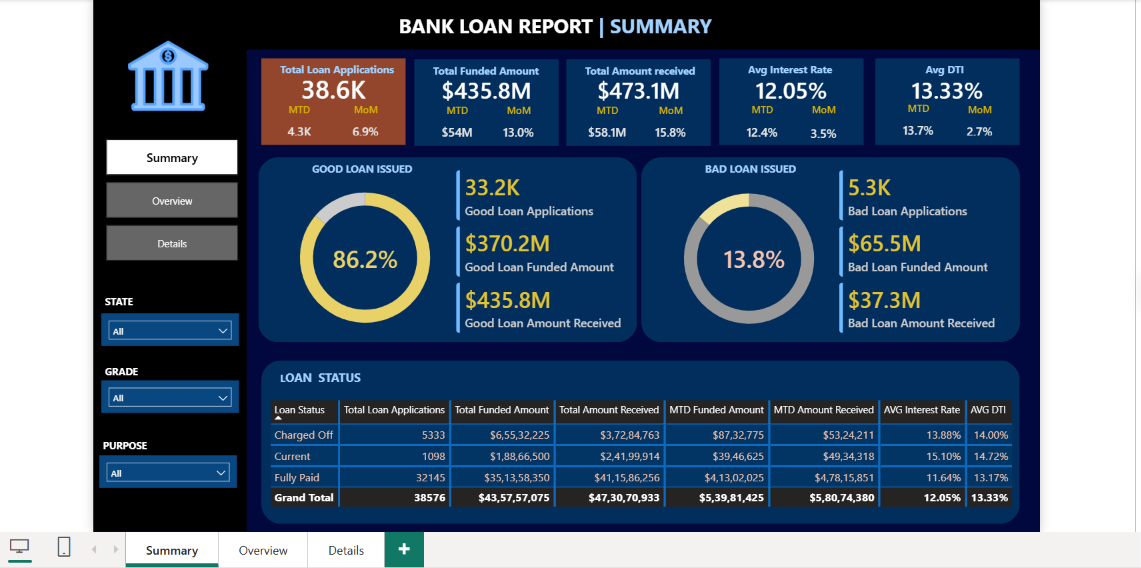

This screenshot's page, from the dashboard's own definition file:
{"tool":"powerbi","page":{"name":"Summary","canvas":[1280,720],"ordinal":0},"visuals":[{"type":"shape","box":[222.6,213.5,511.8,249.8],"z":0},{"type":"shape","box":[0,0,1279.5,68.1],"z":1000},{"type":"shape","box":[0,68.1,207.4,651.1],"z":2000},{"type":"textbox","box":[318,12.1,628.4,56],"z":3000},{"type":"shape","box":[227.1,80.3,195,117],"z":3000,"group":"g1"},{"type":"shape","box":[846.1,80.3,195,117],"z":3000,"group":"g3"},{"type":"shape","box":[1056.9,80.9,195,117],"z":3000,"group":"g4"},{"type":"shape","box":[433.4,81.8,195,117],"z":3000,"group":"g2"},{"type":"shape","box":[639.8,81.8,195,117],"z":3000,"group":"g5"},{"type":"group","id":"g1","title":"Group 1","box":[227.1,80.3,195.3,116.6],"z":4000},{"type":"cardVisual","fields":{"Data":["bank_loan_data.TOtal Loan Applications"]},"box":[227.1,84.8,195.3,71.2],"z":4000,"group":"g1"},{"type":"cardVisual","fields":{"Data":["bank_loan_data.AVG Interest Rate"]},"box":[846.1,84.8,195.3,71.2],"z":4000,"group":"g3"},{"type":"cardVisual","fields":{"Data":["bank_loan_data.AVG DTI"]},"box":[1056.9,85.4,195.3,71.2],"z":4000,"group":"g4"},{"type":"cardVisual","fields":{"Data":["bank_loan_data.Total Funded Amount"]},"box":[433.4,86.3,195.3,71],"z":4000,"group":"g2"},{"type":"cardVisual","fields":{"Data":["bank_loan_data.Total Amount Received"]},"box":[639.8,86.3,195.3,71.2],"z":4000,"group":"g5"},{"type":"textbox","box":[879.4,79.9,174.1,40.9],"z":5000,"group":"g3"},{"type":"textbox","box":[246.8,80.3,174.1,40.9],"z":5000,"group":"g1"},{"type":"textbox","box":[1063.7,80.3,174.1,40.9],"z":5000,"group":"g4"},{"type":"group","id":"g2","title":"Group 1","box":[433.4,81.8,195.3,117],"z":5000},{"type":"textbox","box":[453.1,81.8,174.1,40.9],"z":5000,"group":"g2"},{"type":"textbox","box":[659.5,81.8,174.1,40.9],"z":5000,"group":"g5"},{"type":"cardVisual","title":"MTD","fields":{"Data":["bank_loan_data.MTD Avg Int Rate"]},"box":[865.8,139,75.7,60.6],"z":6000,"group":"g3"},{"type":"cardVisual","title":"MTD","fields":{"Data":["bank_loan_data.MTD Avg DTI"]},"box":[1075.8,139,78.7,57.5],"z":6000,"group":"g4"},{"type":"cardVisual","title":"MTD","fields":{"Data":["bank_loan_data.MTD Loan Applications"]},"box":[246.8,139.4,62.1,57.5],"z":6000,"group":"g1"},{"type":"cardVisual","title":"MTD","fields":{"Data":["bank_loan_data.MTD Funded Amount"]},"box":[453.7,141.2,75.7,57.5],"z":6000,"group":"g2"},{"type":"cardVisual","title":"MTD","fields":{"Data":["bank_loan_data.MTD Amount Received"]},"box":[655.6,141.2,78.7,57.5],"z":6000,"group":"g5"},{"type":"cardVisual","fields":{"Data":["bank_loan_data.Good Loan %"]},"box":[290.7,311.9,154.4,72.7],"z":6000},{"type":"cardVisual","title":"MoM","fields":{"Data":["bank_loan_data.MoM Avg Int Rate"]},"box":[943,139,87.8,63.6],"z":7000,"group":"g3"},{"type":"cardVisual","title":"MoM","fields":{"Data":["bank_loan_data.MOM Loan Applications"]},"box":[324,139.4,87.8,57.5],"z":7000,"group":"g1"},{"type":"cardVisual","title":"MoM","fields":{"Data":["bank_loan_data.MoM Avg DTI"]},"box":[1153.8,139.9,87.8,57.5],"z":7000,"group":"g4"},{"type":"cardVisual","title":"MoM","fields":{"Data":["bank_loan_data.MoM Total Funded Amount"]},"box":[530.3,140.9,87.8,57.5],"z":7000,"group":"g2"},{"type":"cardVisual","title":"MoM","fields":{"Data":["bank_loan_data.MoM Total Amount Received"]},"box":[736.7,140.9,87.8,57.5],"z":7000,"group":"g5"},{"type":"textbox","box":[290.7,213.5,174.1,40.9],"z":7000},{"type":"group","id":"g3","title":"Group 1","box":[846.1,79.9,207.4,122.7],"z":8000},{"type":"group","id":"g4","title":"Group 1","box":[1056.9,80.3,195.3,116.6],"z":9000},{"type":"group","id":"g5","title":"Group 1","box":[639.8,81.8,195.3,117],"z":10000},{"type":"shape","box":[740.4,213.5,511.8,249.8],"z":11000},{"type":"cardVisual","fields":{"Data":["bank_loan_data.Good Loan Applications","bank_loan_data.Good Loan Funded Amount","bank_loan_data.Good Loan Amount Received"]},"box":[472.4,213.5,289.2,254.4],"z":12000},{"type":"donutChart","fields":{"Category":["bank_loan_data.Good vs Bad Loan"],"Y":["bank_loan_data.Total Loan Applications"]},"box":[761.6,234.7,250,230],"z":13000},{"type":"textbox","box":[822.2,213.5,174.1,40.9],"z":14000},{"type":"cardVisual","fields":{"Data":["bank_loan_data.Bad Loan %"]},"box":[816.2,311.9,154.4,72.7],"z":15000},{"type":"cardVisual","fields":{"Data":["bank_loan_data.Bad Loan Applications","bank_loan_data.Bad Loan Funded Amount","bank_loan_data.Bad Loan Amount Received"]},"box":[990.3,213.5,289.2,254.4],"z":16000},{"type":"shape","box":[227.1,487.6,1025.1,221.1],"z":17000},{"type":"tableEx","fields":{"Values":["bank_loan_data.loan_status","bank_loan_data.Total Loan Applications","bank_loan_data.Total Funded Amount","bank_loan_data.Total Amount Received","bank_loan_data.MTD Funded Amount","bank_loan_data.MTD Amount Received","bank_loan_data.AVG Interest Rate","bank_loan_data.AVG DTI"]},"box":[233.2,536,1014.5,183.2],"z":18000},{"type":"donutChart","fields":{"Category":["bank_loan_data.Good vs Bad Loan"],"Y":["bank_loan_data.Total Loan Applications"]},"box":[242.3,233.2,250,230],"z":19000},{"type":"textbox","box":[246.8,495.1,174.1,40.9],"z":20000},{"type":"slicer","fields":{"Values":["bank_loan_data.address_state"]},"box":[10.8,424.4,186.2,43.9],"z":21000},{"type":"slicer","fields":{"Values":["bank_loan_data.purpose"]},"box":[8.1,616.4,186.2,43.9],"z":22000},{"type":"slicer","fields":{"Values":["bank_loan_data.grade"]},"box":[10.8,515,186.2,43.9],"z":23000},{"type":"textbox","box":[10.8,488,69.7,28.8],"z":24000},{"type":"textbox","box":[10.8,393.3,69.7,28.8],"z":25000},{"type":"textbox","box":[8.1,588,69.7,28.8],"z":26000},{"type":"image","box":[37.4,47.4,126.7,112.1],"z":27000},{"type":"pageNavigator","box":[18.2,189.3,178.7,165],"z":28000}]}

Visuals, with their boxes on the page's 1280x720 design canvas (x1, y1, x2, y2). These are canvas units, not pixel positions in the 1141x568 screenshot, which may show the page scaled, cropped or inside an application window:
shape: 223,214,734,463
shape: 0,0,1280,68
shape: 0,68,207,719
textbox: 318,12,946,68
shape: 227,80,422,197
shape: 846,80,1041,197
shape: 1057,81,1252,198
shape: 433,82,628,199
shape: 640,82,835,199
"Group 1" group: 227,80,422,197
cardVisual - bank_loan_data.TOtal Loan Applications: 227,85,422,156
cardVisual - bank_loan_data.AVG Interest Rate: 846,85,1041,156
cardVisual - bank_loan_data.AVG DTI: 1057,85,1252,157
cardVisual - bank_loan_data.Total Funded Amount: 433,86,629,157
cardVisual - bank_loan_data.Total Amount Received: 640,86,835,158
textbox: 879,80,1054,121
textbox: 247,80,421,121
textbox: 1064,80,1238,121
"Group 1" group: 433,82,629,199
textbox: 453,82,627,123
textbox: 660,82,834,123
"MTD" cardVisual: 866,139,942,200
"MTD" cardVisual: 1076,139,1154,196
"MTD" cardVisual: 247,139,309,197
"MTD" cardVisual: 454,141,529,199
"MTD" cardVisual: 656,141,734,199
cardVisual - bank_loan_data.Good Loan %: 291,312,445,385
"MoM" cardVisual: 943,139,1031,203
"MoM" cardVisual: 324,139,412,197
"MoM" cardVisual: 1154,140,1242,197
"MoM" cardVisual: 530,141,618,198
"MoM" cardVisual: 737,141,824,198
textbox: 291,214,465,254
"Group 1" group: 846,80,1054,203
"Group 1" group: 1057,80,1252,197
"Group 1" group: 640,82,835,199
shape: 740,214,1252,463
cardVisual - bank_loan_data.Good Loan Applications x bank_loan_data.Good Loan Funded Amount: 472,214,762,468
donutChart - bank_loan_data.Good vs Bad Loan x bank_loan_data.Total Loan Applications: 762,235,1012,465
textbox: 822,214,996,254
cardVisual - bank_loan_data.Bad Loan %: 816,312,971,385
cardVisual - bank_loan_data.Bad Loan Applications x bank_loan_data.Bad Loan Funded Amount: 990,214,1280,468
shape: 227,488,1252,709
tableEx - bank_loan_data.loan_status x bank_loan_data.Total Loan Applications: 233,536,1248,719
donutChart - bank_loan_data.Good vs Bad Loan x bank_loan_data.Total Loan Applications: 242,233,492,463
textbox: 247,495,421,536
slicer - bank_loan_data.address_state: 11,424,197,468
slicer - bank_loan_data.purpose: 8,616,194,660
slicer - bank_loan_data.grade: 11,515,197,559
textbox: 11,488,80,517
textbox: 11,393,80,422
textbox: 8,588,78,617
image: 37,47,164,160
pageNavigator: 18,189,197,354
